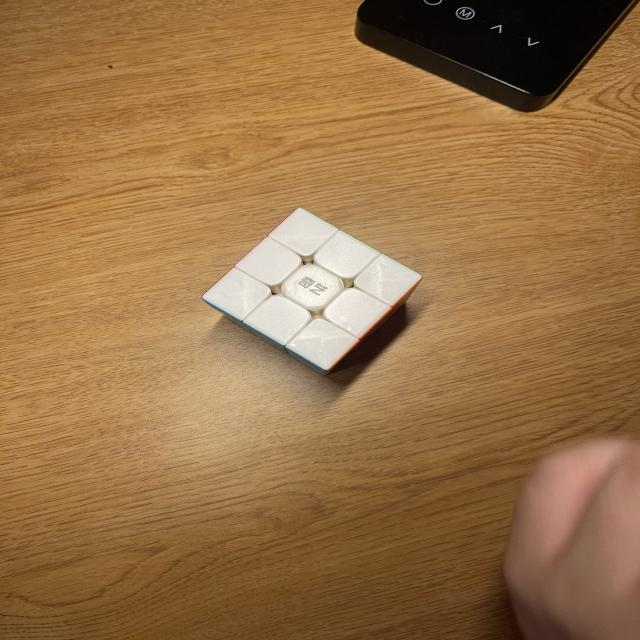Rubiks Cube: (202, 207, 423, 377)
